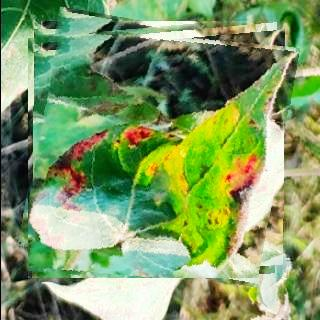blight: (27, 15, 289, 278)
